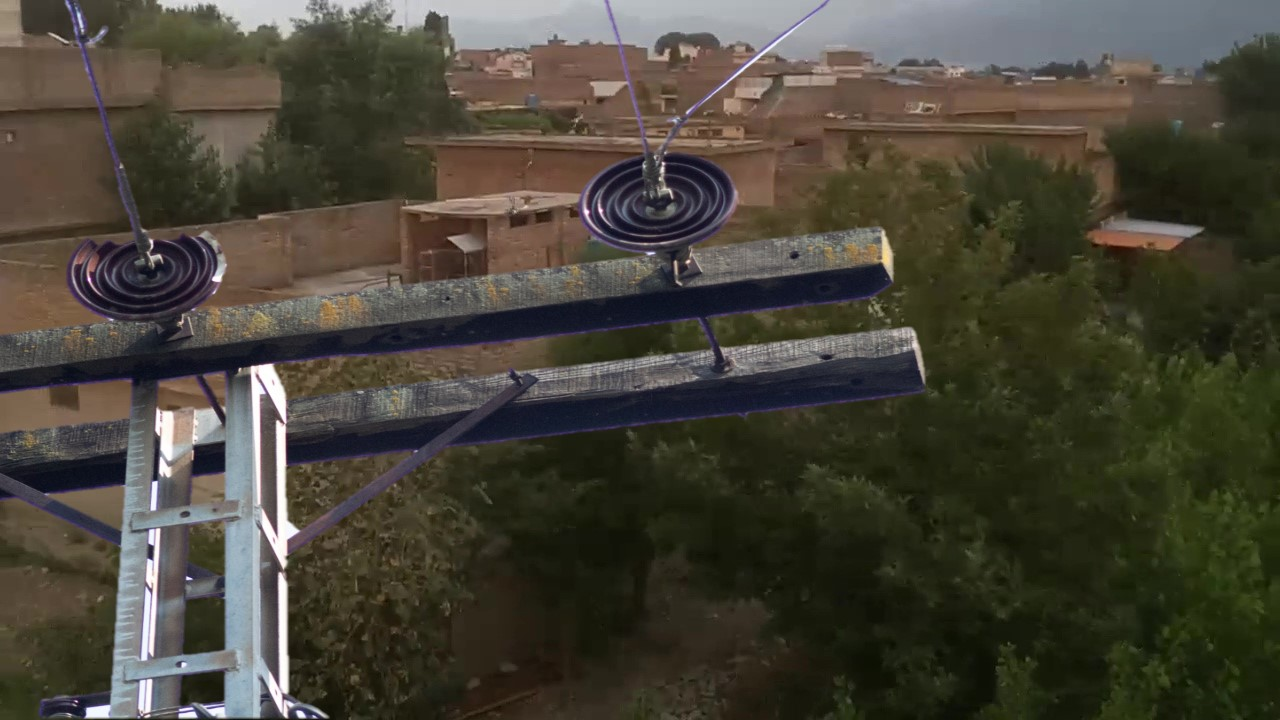defect_disc: (66, 226, 231, 319)
insulator_disc: (573, 146, 740, 259)
